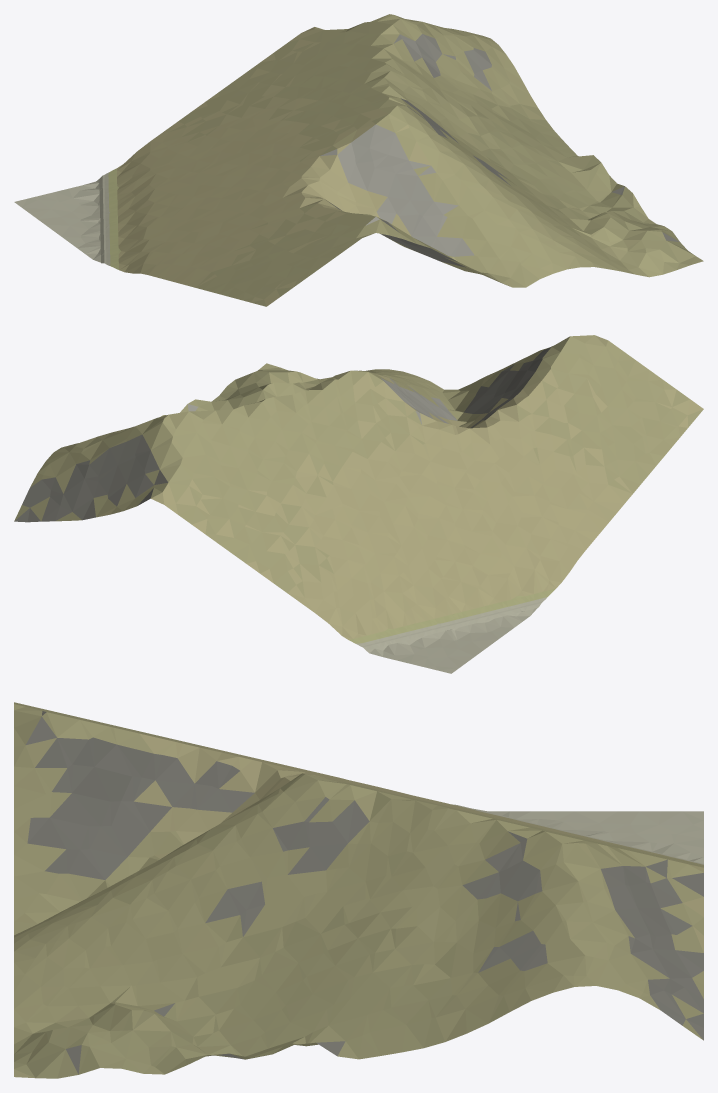
The model's file is Ground_-2_3.glb.
The picture shows the model from 3 angles, top to bottom: view 1: azimuth 30°, elevation 25°; view 2: azimuth 150°, elevation 25°; view 3: azimuth 270°, elevation 25°; orthographic projection. The views are drawn at different scales.
Parts seen in each view (by area): view 1: Ground_-2_3; view 2: Ground_-2_3; view 3: Ground_-2_3.
Part boxes in pixels (bbox=[...]): Ground_-2_3: bbox=[14, 14, 703, 306]; Ground_-2_3: bbox=[14, 335, 703, 673]; Ground_-2_3: bbox=[14, 702, 703, 1078].
Bounding box in the file's own units: 768 × 238 × 768.
